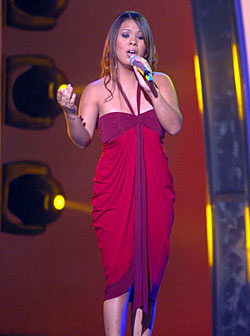person: (59, 11, 182, 336)
